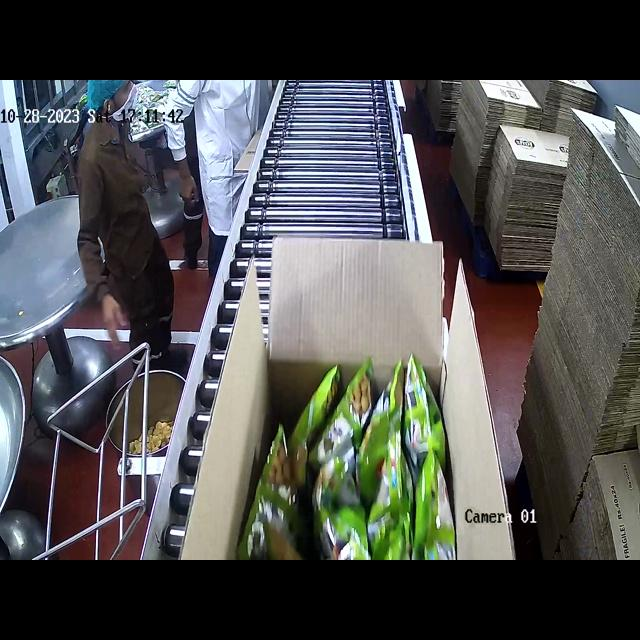yogurt: (243, 352, 456, 558)
